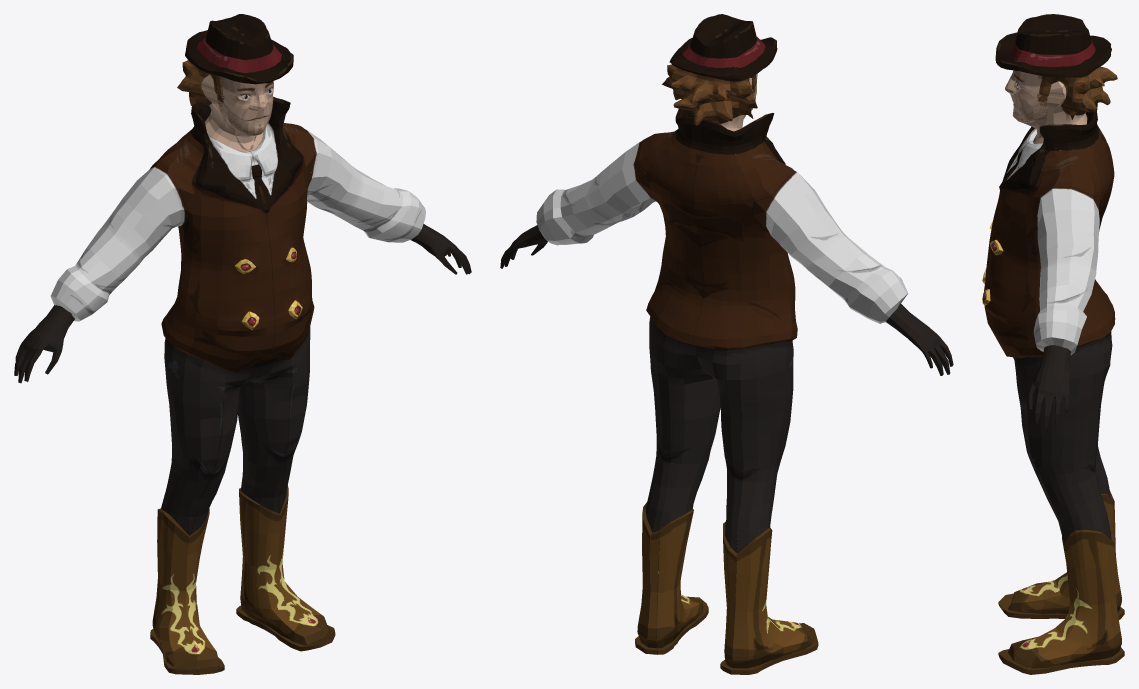
The model's file is Model_DorianKnox.fbx.
3 views of the same model, side by side, from view 1: azimuth 30°, elevation 25°; view 2: azimuth 150°, elevation 25°; view 3: azimuth 270°, elevation 25° (orthographic).
Visible parts, largest first — view 1: Clothes, Boots, SkinNButtons1, Hair; view 2: Clothes, Boots, Hair, SkinNButtons1; view 3: Clothes, Boots, SkinNButtons1, Hair.
Boxes of the visible parts, left/top/right/bottom form: Clothes: left=50, top=14, right=425, bottom=535; Boots: left=150, top=485, right=335, bottom=674; SkinNButtons1: left=14, top=74, right=471, bottom=383; Hair: left=177, top=57, right=260, bottom=105; Clothes: left=536, top=14, right=908, bottom=552; Boots: left=635, top=502, right=818, bottom=674; Hair: left=662, top=60, right=757, bottom=126; SkinNButtons1: left=500, top=50, right=953, bottom=375; Clothes: left=984, top=14, right=1115, bottom=542; Boots: left=998, top=491, right=1124, bottom=674; SkinNButtons1: left=982, top=70, right=1087, bottom=428; Hair: left=1039, top=66, right=1117, bottom=119.
Size of the model in its own units: 224 by 294 by 61.99.
Materials: 5 (5 with a texture image).
